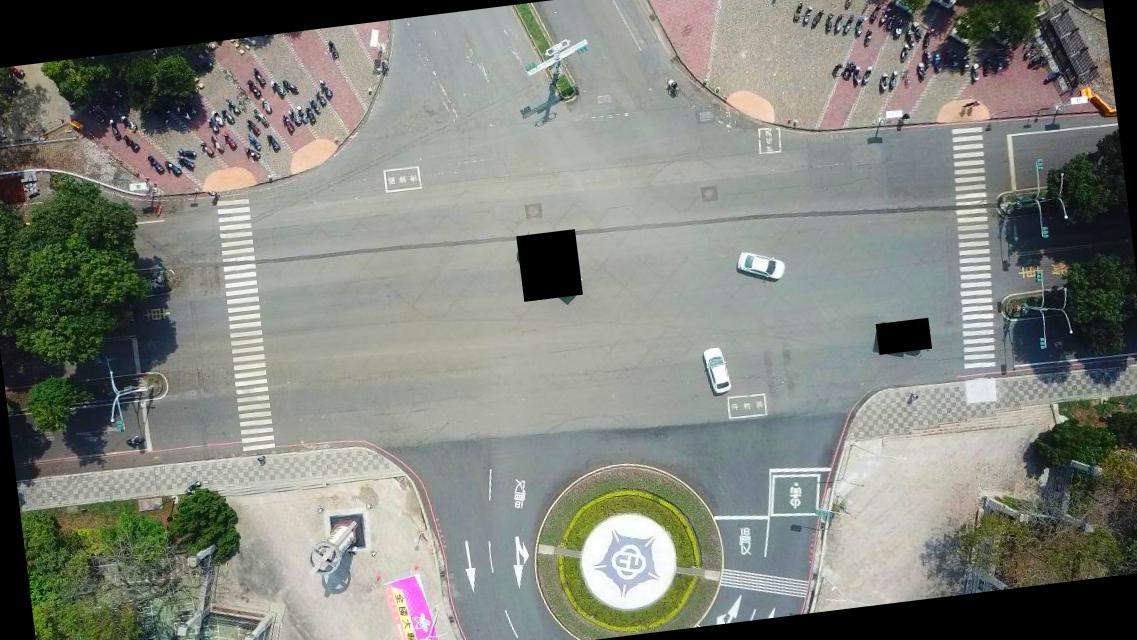vehicle: (734, 248, 786, 286), (699, 345, 732, 395)
